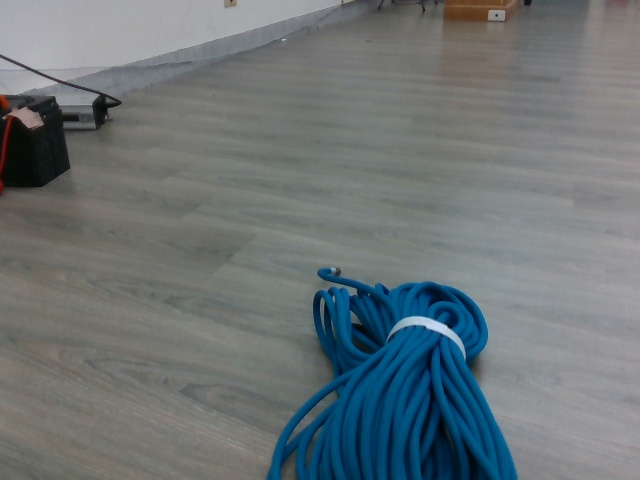rope: (268, 262, 523, 480)
